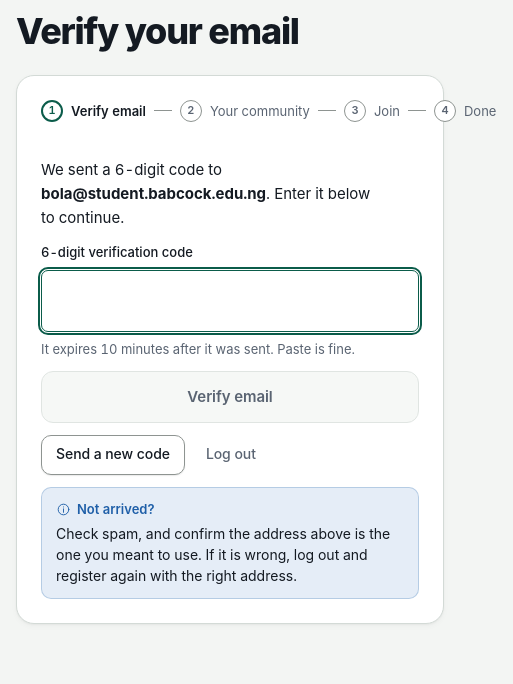
Scenario: verify email › reports an incorrect code and the tries left, from the response
The width and height of the screenshot is (513, 684).
Type "111111" into the field labelled "6-digit verification code" at (230, 301), box [41,270,419,332]
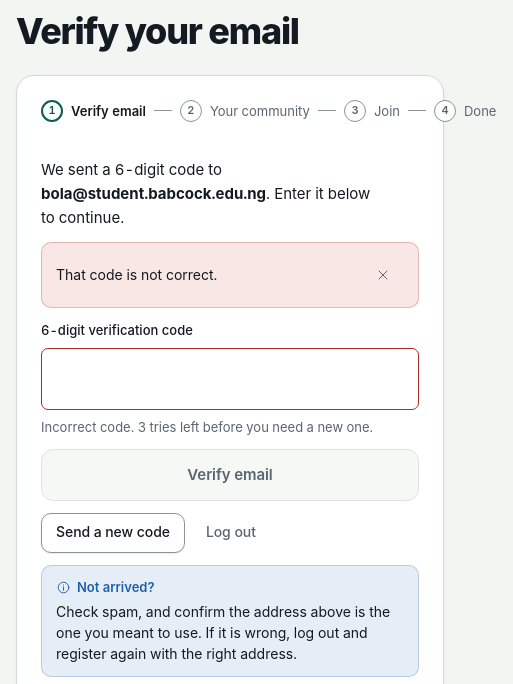
expect the text "That code is not correct." is shown: met, box [56,264,217,285]
expect the text "Incorrect code. 3 tries left before you need a new one." is shown: met, box [41,418,419,437]
